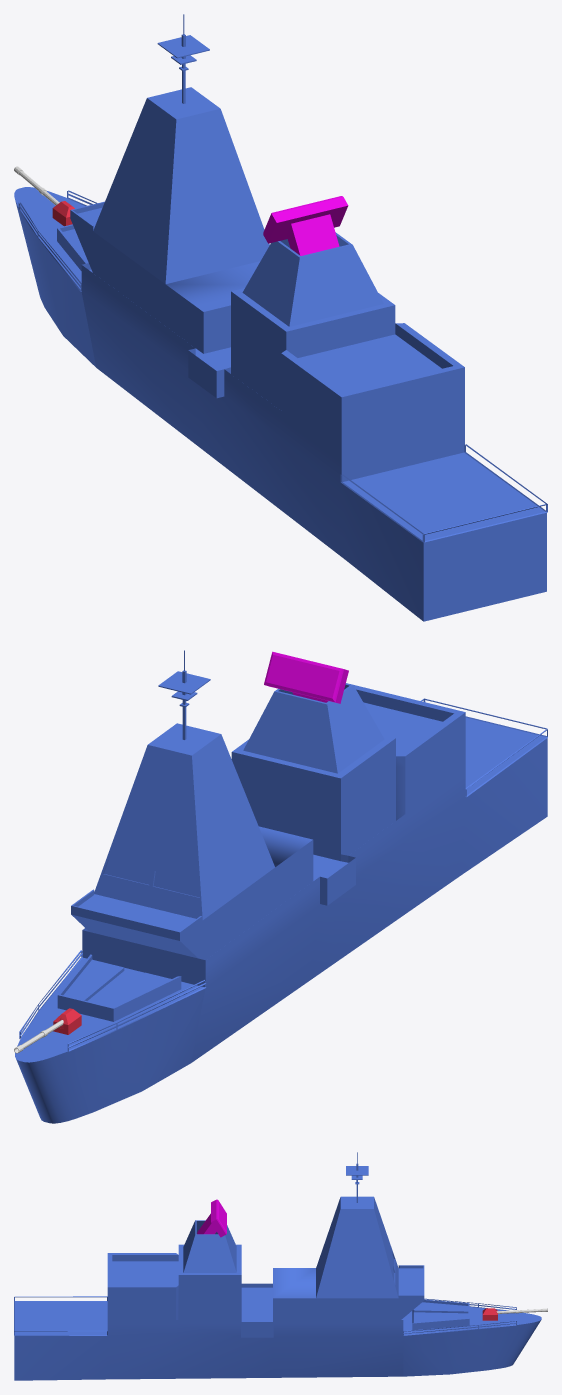
File: SHIP_2 (1).fbx
3 renders of one model, top to bottom at view 1: azimuth 30°, elevation 25°; view 2: azimuth 150°, elevation 25°; view 3: azimuth 270°, elevation 25°, orthographic. The views are drawn at different scales.
Parts seen in each view (by area): view 1: Cube.003; view 2: Cube.003; view 3: Cube.003.
Part boxes in pixels (bbox=[...]): Cube.003: bbox=[14, 14, 547, 621]; Cube.003: bbox=[14, 650, 547, 1123]; Cube.003: bbox=[14, 1152, 547, 1380].
Bounding box in the file's own units: 3995 × 10290 × 23567.
